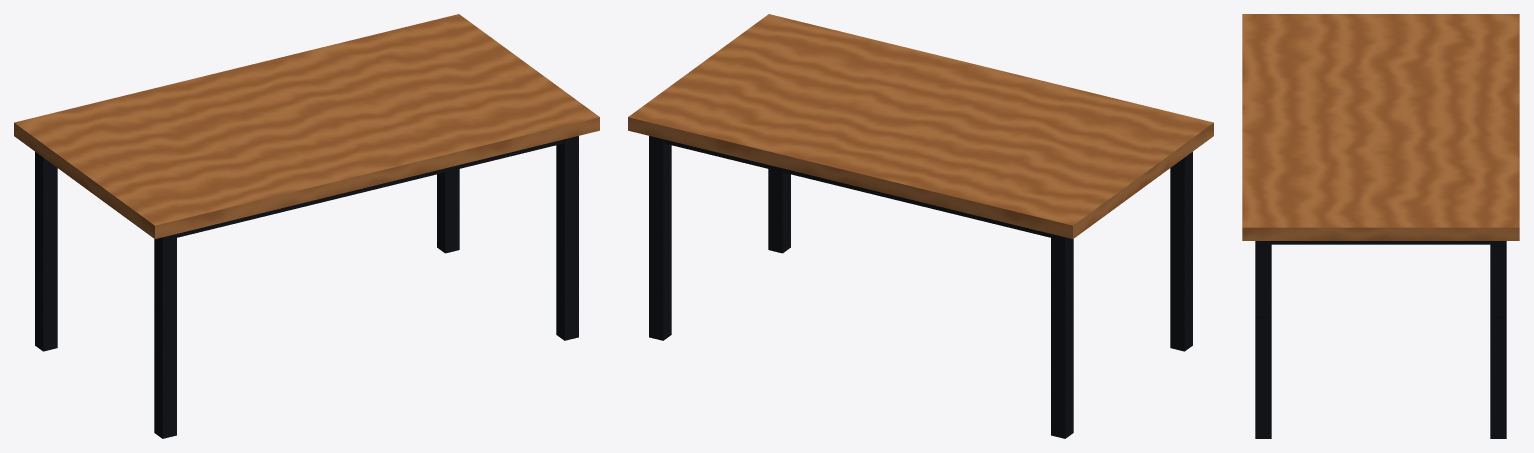
File: desk_modern_tech.glb
The picture shows the model from 3 angles, left to right: view 1: azimuth 30°, elevation 25°; view 2: azimuth 150°, elevation 25°; view 3: azimuth 270°, elevation 25°; orthographic projection.
Parts seen in each view (by area): view 1: DesktopOak, SteelFrame; view 2: DesktopOak, SteelFrame; view 3: DesktopOak, SteelFrame.
Part boxes in pixels (<box>): DesktopOak: <box>14,14,599,238</box>; SteelFrame: <box>35,136,578,438</box>; DesktopOak: <box>628,14,1213,238</box>; SteelFrame: <box>649,136,1192,438</box>; DesktopOak: <box>1242,14,1519,240</box>; SteelFrame: <box>1255,241,1506,438</box>.
Bounding box in the file's own units: 1.55 × 0.7375 × 0.85.
Materials: 2 (2 with a texture image).
